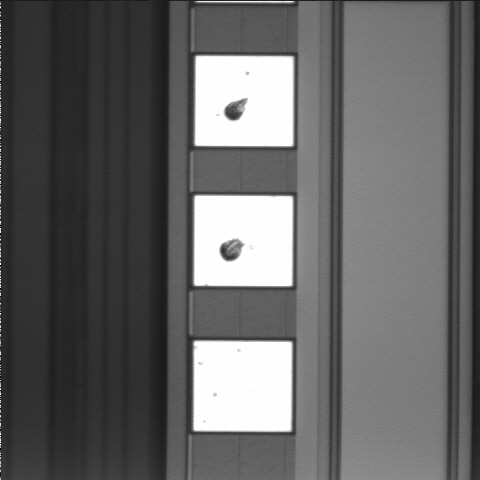pad: (194, 196, 293, 286), (195, 56, 293, 146), (194, 341, 292, 431)
